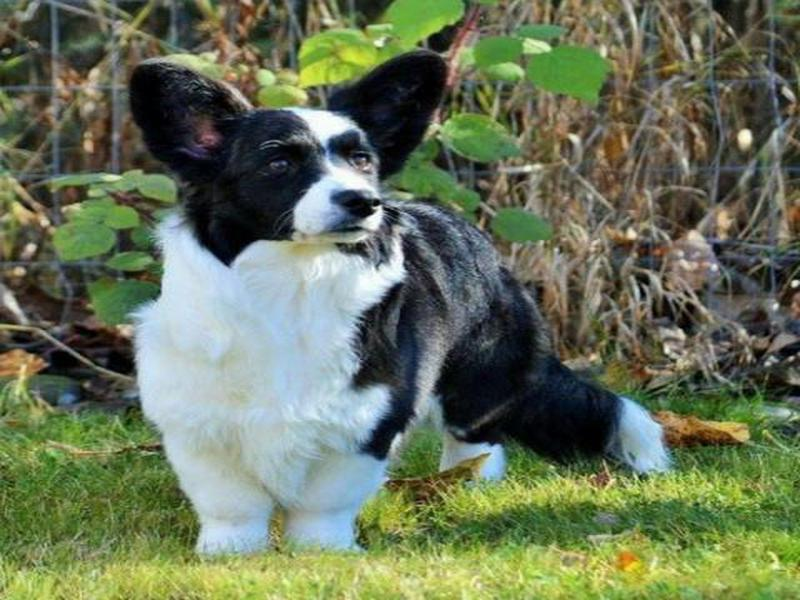corgi: (131, 49, 451, 241)
